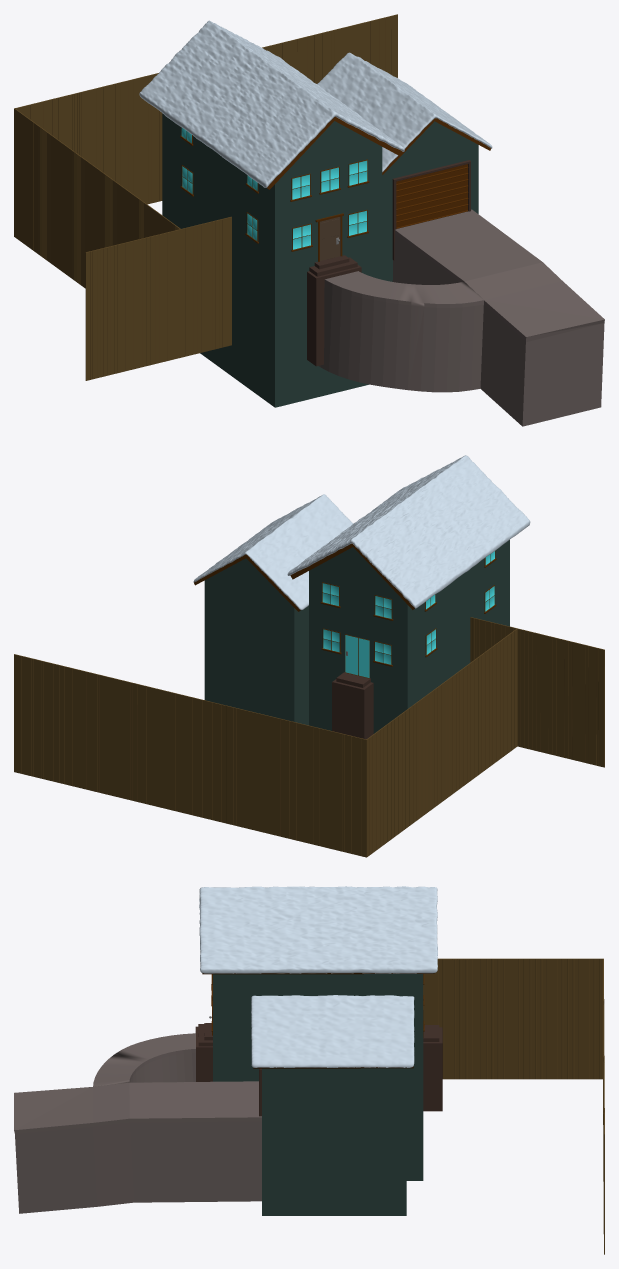
Rendered from marshshouse_compressed.glb.
3 views of the same model, one above another, from view 1: azimuth 30°, elevation 25°; view 2: azimuth 150°, elevation 25°; view 3: azimuth 270°, elevation 25° (orthographic). The views are drawn at different scales.
Parts seen in each view (by area): view 1: Cube.774, Cube.786, Cube.769, Cube.766, Cube.768, Cube.773, Cube.771; view 2: Cube.774, Cube.769, Cube.766, Cube.768, Cube.773; view 3: Cube.786, Cube.766, Cube.769, Cube.774, Cube.768.
Part boxes in pixels (x1,y1,x2,y2): Cube.774: [14, 14, 397, 380]; Cube.786: [319, 209, 604, 426]; Cube.769: [162, 113, 478, 407]; Cube.766: [139, 20, 492, 187]; Cube.768: [180, 116, 491, 366]; Cube.773: [181, 128, 367, 249]; Cube.771: [320, 216, 340, 261]; Cube.774: [14, 617, 604, 857]; Cube.769: [204, 540, 509, 733]; Cube.766: [193, 455, 530, 609]; Cube.768: [194, 543, 496, 739]; Cube.773: [322, 551, 494, 677]; Cube.786: [14, 1033, 261, 1213]; Cube.766: [199, 886, 437, 1067]; Cube.769: [213, 974, 423, 1215]; Cube.774: [423, 958, 604, 1254]; Cube.768: [195, 973, 442, 1116].
Bounding box in the file's own units: 5.2 × 2.99 × 5.93.
